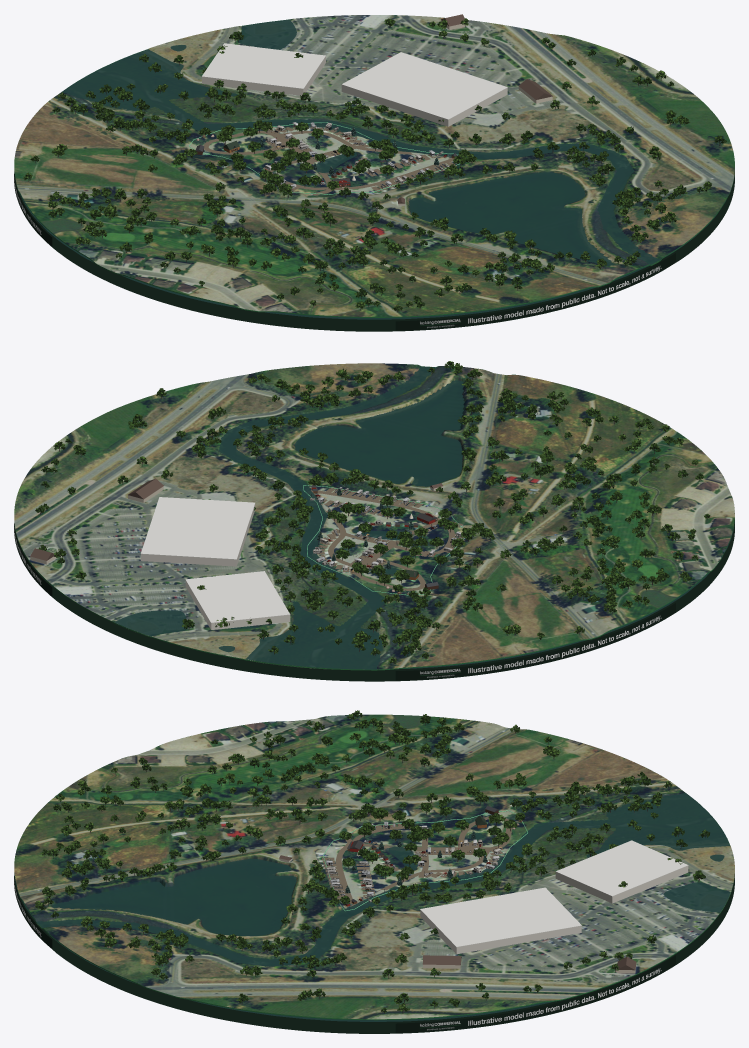
The picture shows the model from 3 angles, top to bottom: view 1: azimuth 30°, elevation 25°; view 2: azimuth 150°, elevation 25°; view 3: azimuth 270°, elevation 25°; orthographic projection.
Visible parts, largest first — view 1: ground_m, trees, water_m, town_flat_roof, plinth_base, plinth_print, parktrees, town_shop_wall, drive_site_gravel, pads_site_gravel, plinth_band, rvs (+2 smaller); view 2: ground_m, trees, water_m, town_flat_roof, plinth_base, plinth_print, parktrees, town_shop_wall, drive_site_gravel, pads_site_gravel, plinth_band, rvs (+2 smaller); view 3: ground_m, trees, water_m, town_flat_roof, plinth_base, plinth_print, parktrees, town_shop_wall, drive_site_gravel, pads_site_gravel, rvs, plinth_band (+2 smaller).
Part boxes in pixels (left/top/right/bottom): ground_m: left=14, top=15, right=734, bottom=316; trees: left=23, top=18, right=726, bottom=312; water_m: left=19, top=19, right=725, bottom=319; town_flat_roof: left=202, top=43, right=507, bottom=119; plinth_base: left=14, top=174, right=734, bottom=331; plinth_print: left=14, top=174, right=675, bottom=330; parktrees: left=199, top=121, right=470, bottom=194; town_shop_wall: left=202, top=56, right=507, bottom=126; drive_site_gravel: left=203, top=130, right=454, bottom=195; pads_site_gravel: left=263, top=127, right=456, bottom=191; plinth_band: left=15, top=17, right=734, bottom=317; rvs: left=265, top=122, right=448, bottom=189; ground_m: left=14, top=363, right=734, bottom=669; trees: left=35, top=361, right=710, bottom=664; water_m: left=115, top=366, right=734, bottom=669; town_flat_roof: left=140, top=497, right=290, bottom=622; plinth_base: left=14, top=524, right=734, bottom=681; plinth_print: left=14, top=524, right=675, bottom=680; parktrees: left=308, top=472, right=492, bottom=592; town_shop_wall: left=141, top=504, right=290, bottom=629; drive_site_gravel: left=311, top=489, right=463, bottom=590; pads_site_gravel: left=317, top=487, right=464, bottom=574; plinth_band: left=15, top=363, right=734, bottom=670; rvs: left=310, top=487, right=461, bottom=572; ground_m: left=14, top=714, right=734, bottom=1019; trees: left=34, top=710, right=709, bottom=1013; water_m: left=14, top=793, right=730, bottom=1021; town_flat_roof: left=420, top=840, right=688, bottom=947; plinth_base: left=14, top=877, right=734, bottom=1033; plinth_print: left=14, top=876, right=675, bottom=1032; parktrees: left=323, top=802, right=525, bottom=905; town_shop_wall: left=420, top=866, right=688, bottom=954; drive_site_gravel: left=336, top=816, right=511, bottom=906; pads_site_gravel: left=322, top=823, right=503, bottom=900; rvs: left=325, top=821, right=502, bottom=903; plinth_band: left=16, top=714, right=733, bottom=1020.
Size of the model in its own units: 0.602 by 0.0249 by 0.6022.
Materials: 116 (74 with a texture image).
